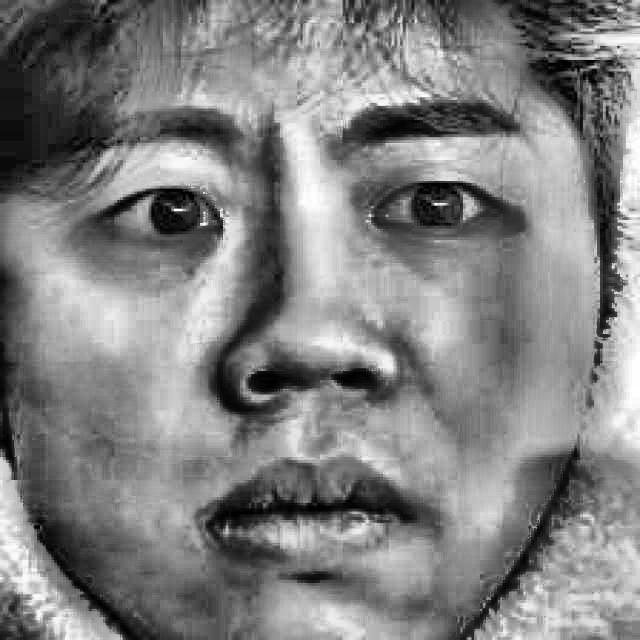fear: (55, 75, 562, 595)
